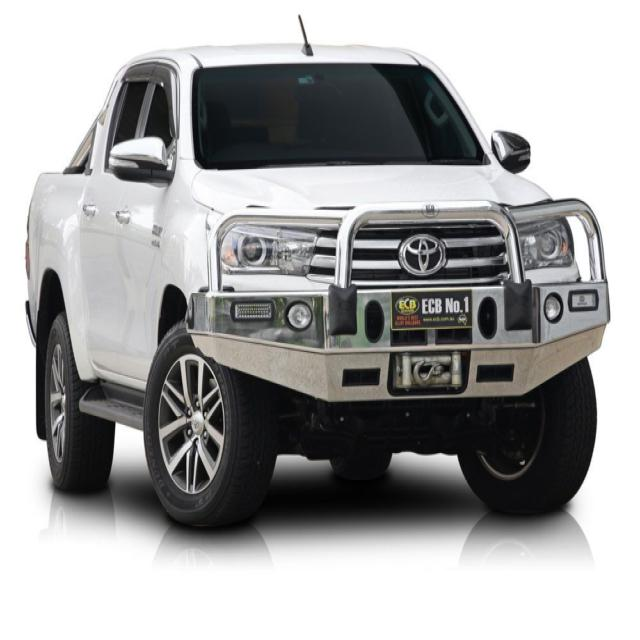light_vehicle: (18, 27, 625, 536)
